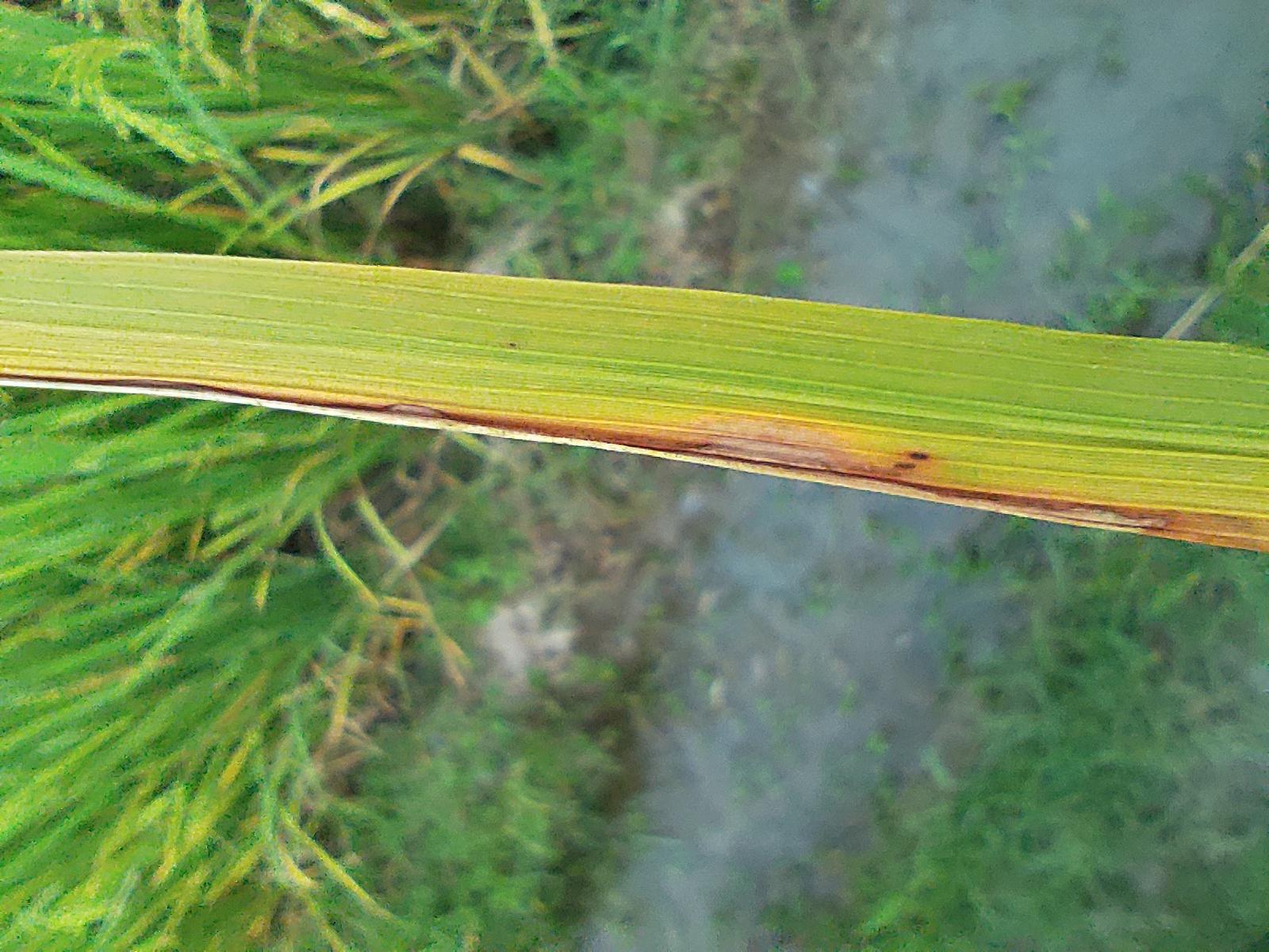BLB: (558, 0, 769, 875)
LEAF: (534, 0, 934, 951)
